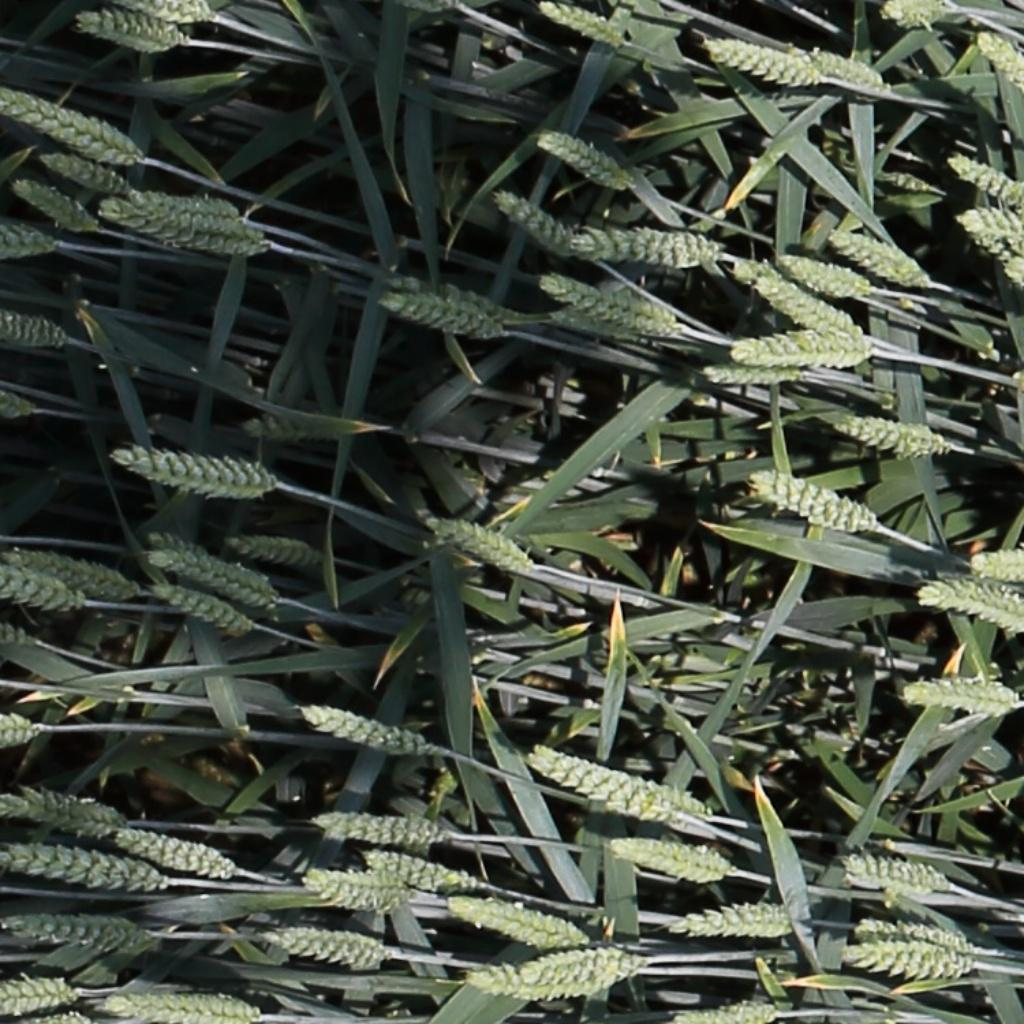0-0: (527, 744, 717, 828), (101, 194, 269, 268), (731, 255, 857, 341), (109, 438, 278, 502), (539, 273, 684, 338), (5, 88, 133, 159), (748, 473, 882, 537), (2, 844, 171, 894), (297, 700, 432, 756), (445, 895, 587, 947), (572, 229, 718, 275), (463, 962, 624, 1003), (827, 226, 936, 286), (730, 325, 876, 369), (424, 514, 531, 572), (111, 831, 234, 881), (152, 551, 270, 603), (368, 848, 490, 898), (916, 579, 1023, 636), (385, 277, 512, 324), (14, 178, 106, 242), (0, 789, 127, 835), (126, 188, 246, 236), (609, 835, 729, 882), (263, 926, 388, 971), (73, 11, 191, 58), (379, 292, 501, 337), (511, 945, 640, 987), (835, 415, 952, 461), (535, 128, 628, 185), (3, 911, 146, 948), (838, 852, 948, 900), (12, 551, 132, 595), (492, 189, 574, 253), (705, 39, 819, 84), (150, 582, 245, 634), (667, 901, 792, 940), (902, 676, 1023, 716), (778, 253, 871, 303), (98, 996, 264, 1024), (849, 947, 975, 981), (311, 813, 443, 845), (946, 151, 1024, 204), (857, 919, 970, 955), (305, 868, 395, 912), (536, 0, 621, 45), (40, 148, 128, 191), (0, 566, 79, 610), (808, 49, 886, 92), (975, 28, 1024, 90), (952, 206, 1024, 248), (0, 217, 63, 263), (112, 0, 216, 27), (700, 361, 811, 386), (673, 1001, 783, 1024), (1, 978, 69, 1013), (229, 539, 314, 566), (240, 419, 346, 439), (1, 311, 65, 344), (968, 546, 1024, 581), (886, 1, 944, 29), (0, 710, 35, 746), (0, 389, 35, 415)
